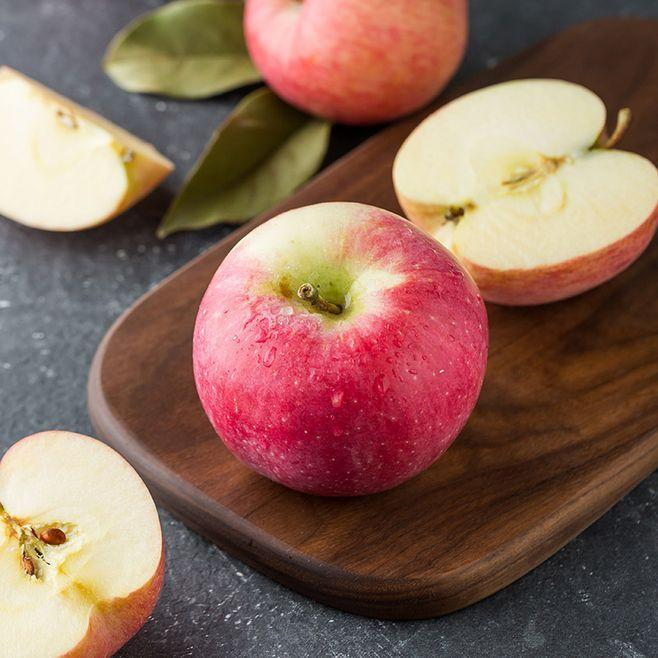apple: (192, 214, 490, 505), (241, 1, 468, 128)
